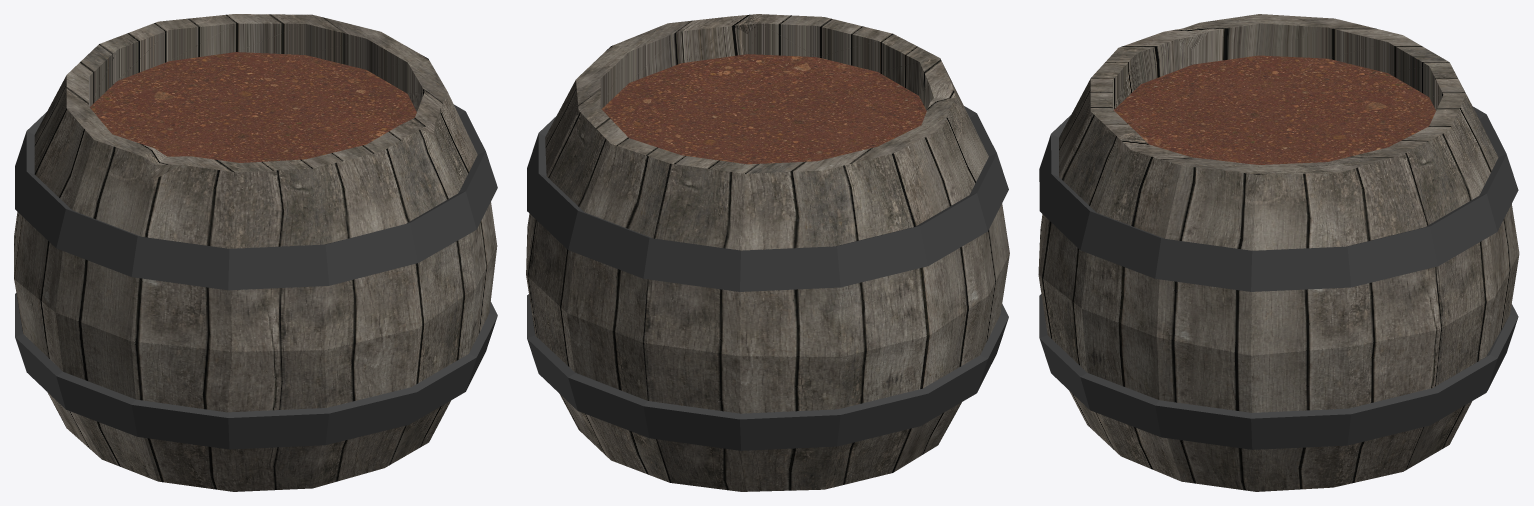
Rendered from barrel.gltf.
3 renders of one model, left to right at view 1: azimuth 30°, elevation 25°; view 2: azimuth 150°, elevation 25°; view 3: azimuth 270°, elevation 25°, orthographic.
Parts seen in each view (by area): view 1: Cylinder; view 2: Cylinder; view 3: Cylinder.
Boxes of the visible parts, x1,y1,x2,y2 form: Cylinder: (14, 14, 497, 491); Cylinder: (526, 14, 1009, 491); Cylinder: (1038, 14, 1519, 491).
Bounding box in the file's own units: 1.66 × 1.2 × 1.65.
Materials: 3 (2 with a texture image).
